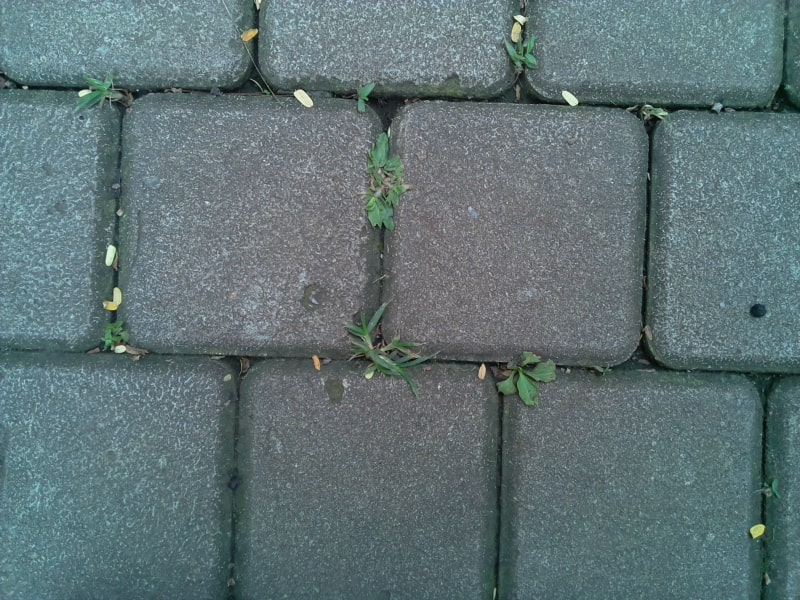Weed: (345, 301, 435, 385), (367, 128, 407, 232), (501, 354, 555, 404), (72, 72, 122, 115), (501, 37, 538, 78), (101, 320, 134, 350), (757, 476, 784, 503), (353, 80, 372, 115), (593, 362, 613, 381)
